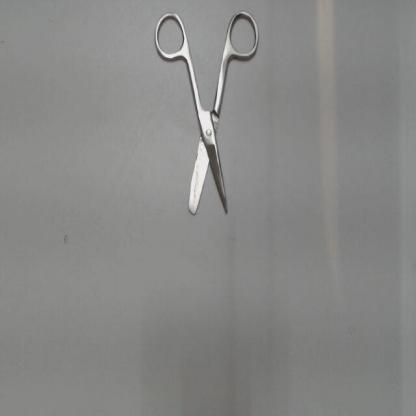Dressing Scissors: (147, 3, 266, 233)
